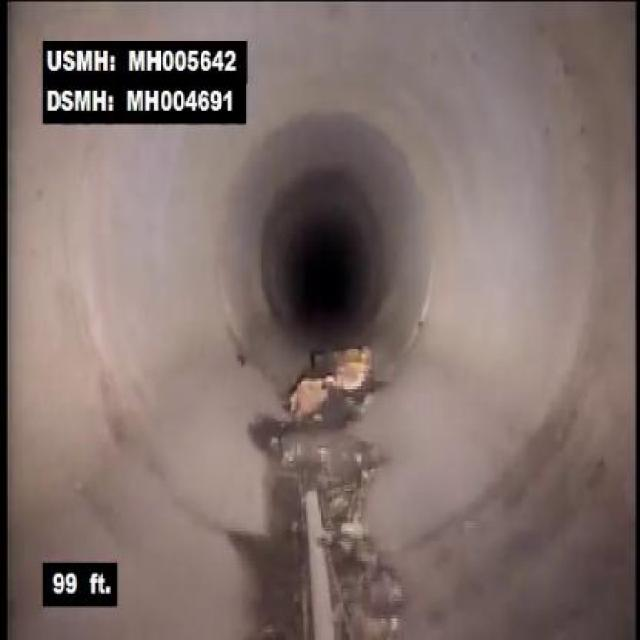Debris: (275, 310, 383, 428)
